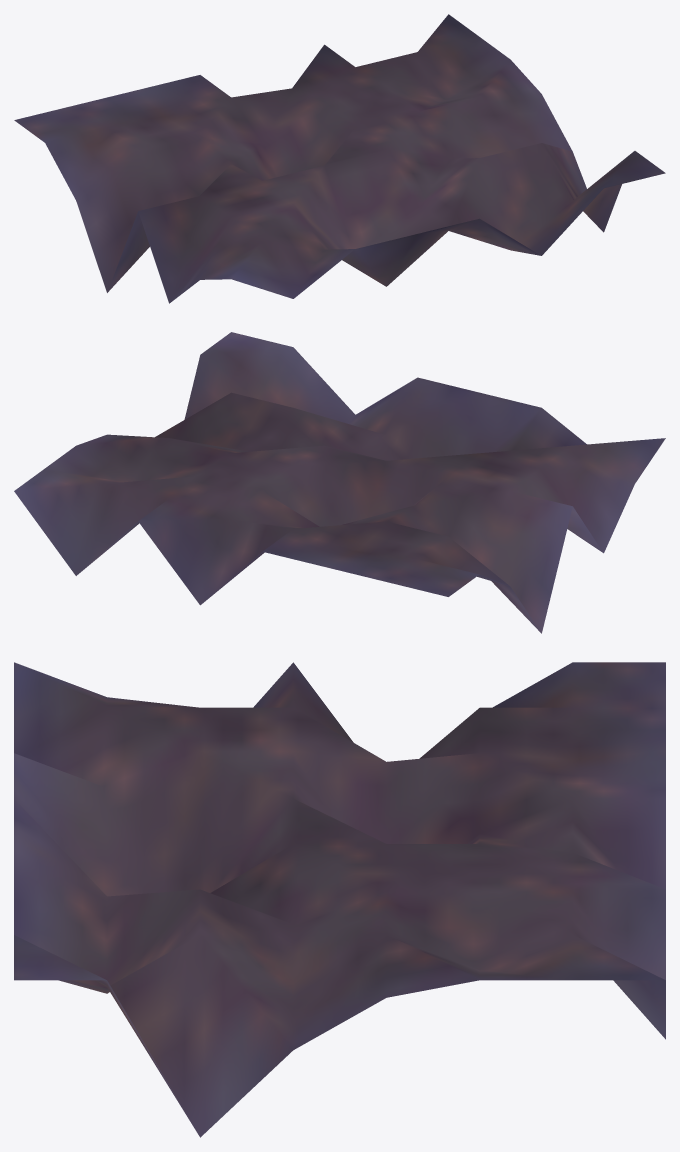
The model's file is Peas_Burnt.fbx.
The picture shows the model from 3 angles, top to bottom: view 1: azimuth 30°, elevation 25°; view 2: azimuth 150°, elevation 25°; view 3: azimuth 270°, elevation 25°; orthographic projection. The views are drawn at different scales.
Parts seen in each view (by area): view 1: Peas_Burnt; view 2: Peas_Burnt; view 3: Peas_Burnt.
Boxes of the visible parts, bbox=[...] form: Peas_Burnt: bbox=[14, 14, 665, 303]; Peas_Burnt: bbox=[14, 332, 665, 633]; Peas_Burnt: bbox=[14, 662, 665, 1137].
Size of the model in its own units: 38.2 by 8.81 by 33.09.
